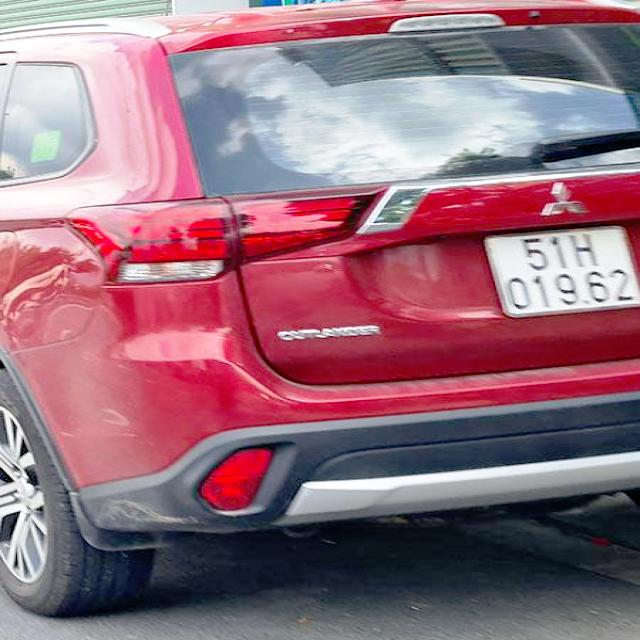license_plate: (489, 224, 640, 321)
